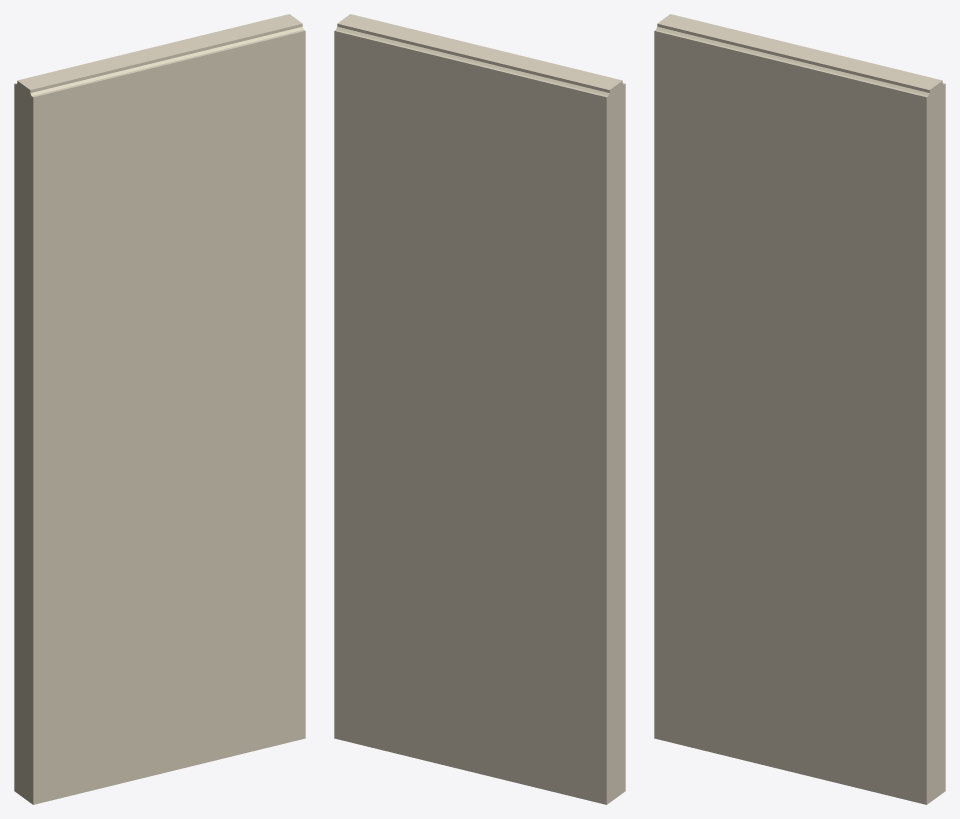
Rendered from wall.glb.
3 renders of one model, left to right at view 1: azimuth 30°, elevation 25°; view 2: azimuth 150°, elevation 25°; view 3: azimuth 330°, elevation 25°, orthographic.
Parts seen in each view (by area): view 1: WallPanel.006; view 2: WallPanel.006; view 3: WallPanel.006.
Part boxes in pixels (x1=…): WallPanel.006: x1=14, y1=14, x2=305, y2=804; WallPanel.006: x1=334, y1=14, x2=625, y2=804; WallPanel.006: x1=654, y1=14, x2=945, y2=804.
Size of the model in its own units: 1 by 2.5 by 0.12.
